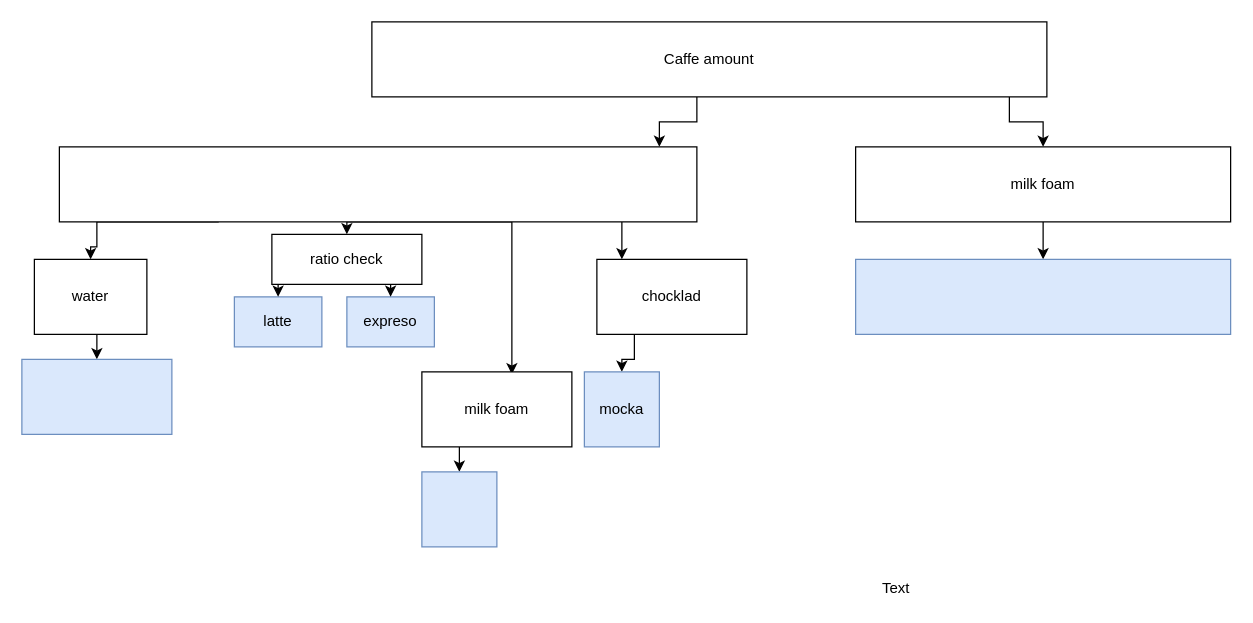
This 1253x623 diagram has some shape labels left out. Here are the shapes that lost their labels. From the top down, the centre of each, then its label:
(377,184): milk
(1042,296): makiato
(96,396): amerikano
(459,509): capetiono
